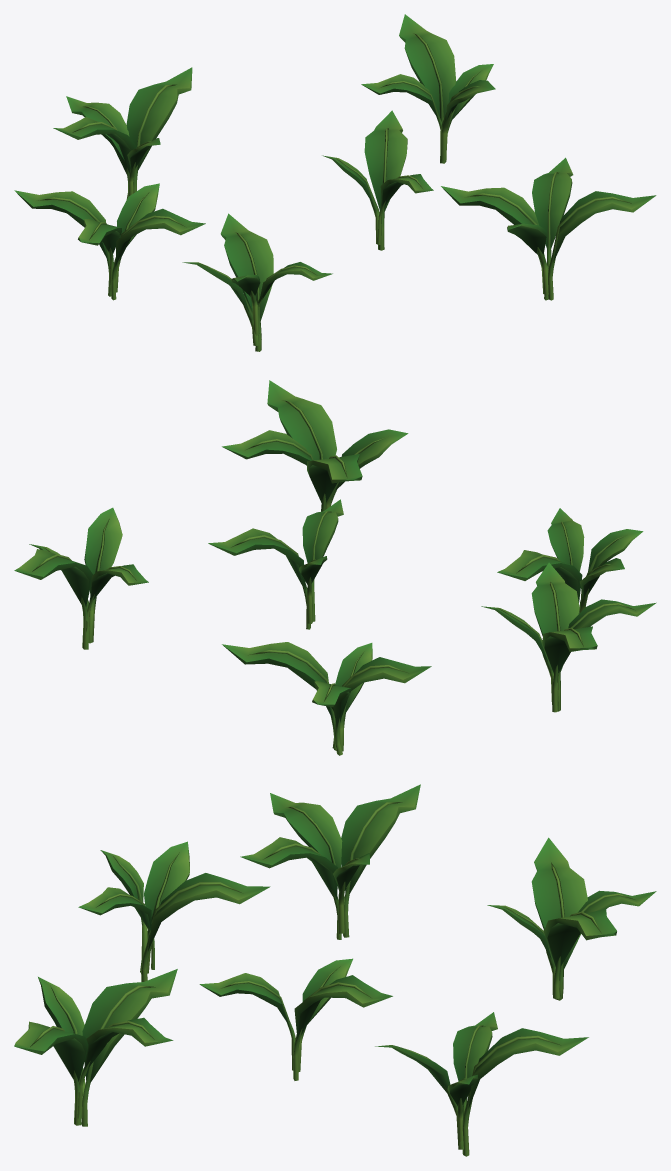
File: SM_Plant_Turnip_Lv1.fbx
3 renders of one model, top to bottom at view 1: azimuth 30°, elevation 25°; view 2: azimuth 150°, elevation 25°; view 3: azimuth 270°, elevation 25°, orthographic. The views are drawn at different scales.
Visible parts, largest first — view 1: SM_Plant_Turnip_Lv1; view 2: SM_Plant_Turnip_Lv1; view 3: SM_Plant_Turnip_Lv1.
Part boxes in pixels (x1=…): SM_Plant_Turnip_Lv1: x1=14, y1=14, x2=656, y2=351; SM_Plant_Turnip_Lv1: x1=14, y1=380, x2=656, y2=755; SM_Plant_Turnip_Lv1: x1=14, y1=784, x2=656, y2=1156.
Bounding box in the file's own units: 74.3 × 16.59 × 70.19.
